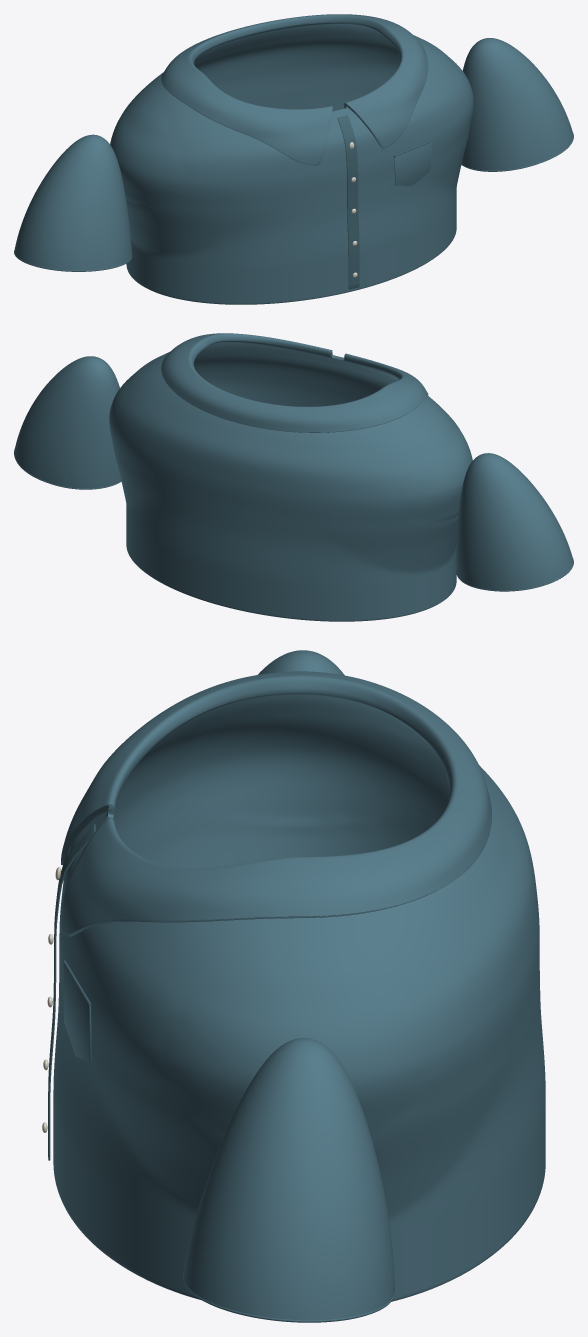
The model's file is Masculine-buttonup-top.glb.
3 renders of one model, top to bottom at view 1: azimuth 30°, elevation 25°; view 2: azimuth 150°, elevation 25°; view 3: azimuth 270°, elevation 25°, orthographic. The views are drawn at different scales.
Parts seen in each view (by area): view 1: Clothing / tshirt, Sleeve / floating fabric -1, Sleeve / floating fabric 1, Button-up / closed placket, Button-up / chest pocket; view 2: Clothing / tshirt, Sleeve / floating fabric -1, Sleeve / floating fabric 1; view 3: Clothing / tshirt, Sleeve / floating fabric 1, Button-up / chest pocket, Button-up / closed placket, Sleeve / floating fabric -1.
Boxes of the visible parts, bbox=[...] form: Clothing / tshirt: bbox=[110, 14, 473, 304]; Sleeve / floating fabric -1: bbox=[14, 134, 131, 270]; Sleeve / floating fabric 1: bbox=[461, 38, 573, 170]; Button-up / closed placket: bbox=[337, 115, 359, 289]; Button-up / chest pocket: bbox=[394, 142, 431, 185]; Clothing / tshirt: bbox=[109, 333, 472, 621]; Sleeve / floating fabric -1: bbox=[456, 453, 573, 590]; Sleeve / floating fabric 1: bbox=[14, 356, 121, 488]; Clothing / tshirt: bbox=[53, 671, 545, 1300]; Sleeve / floating fabric 1: bbox=[183, 1038, 394, 1320]; Button-up / chest pocket: bbox=[63, 964, 91, 1062]; Button-up / closed placket: bbox=[48, 824, 95, 1160]; Sleeve / floating fabric -1: bbox=[258, 650, 344, 675].
Bounding box in the file's own units: 1.18 × 0.4114 × 0.4723.
